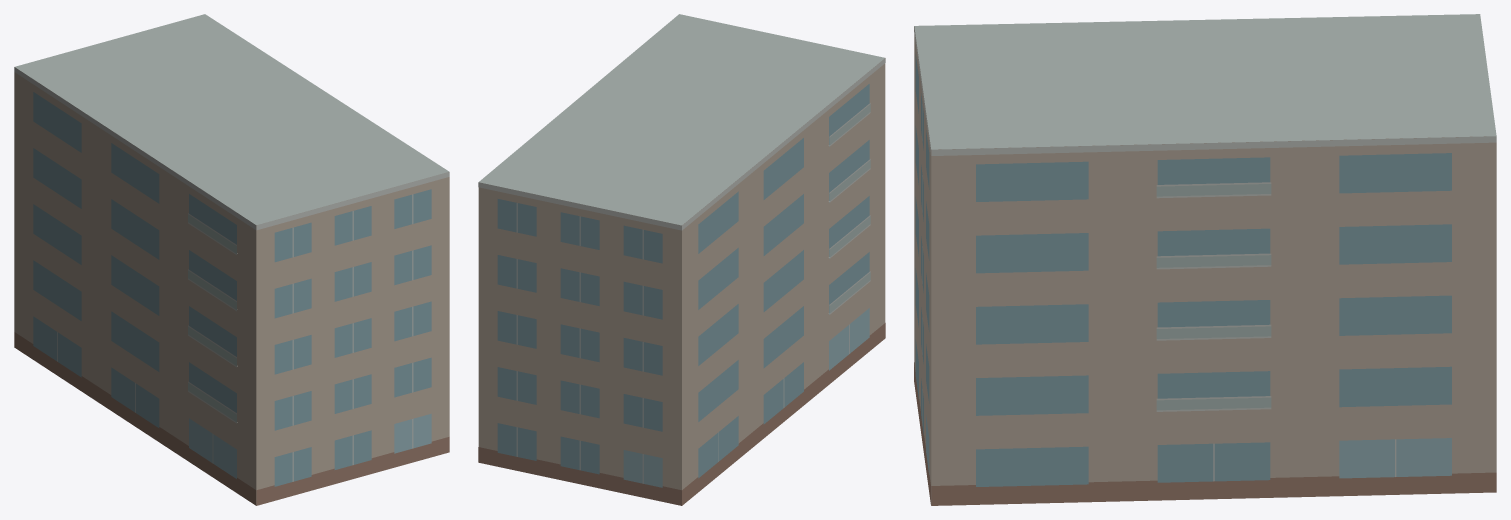
File: survey-upis-32662685.glb
3 views of the same model, side by side, from view 1: azimuth 30°, elevation 25°; view 2: azimuth 150°, elevation 25°; view 3: azimuth 270°, elevation 25° (orthographic). The views are drawn at different scales.
Parts seen in each view (by area): view 1: survey-upis-32662685.tmp; view 2: survey-upis-32662685.tmp; view 3: survey-upis-32662685.tmp.
Part boxes in pixels (bbox=[...]): survey-upis-32662685.tmp: bbox=[14, 14, 449, 505]; survey-upis-32662685.tmp: bbox=[478, 14, 885, 505]; survey-upis-32662685.tmp: bbox=[914, 14, 1496, 505].
Bounding box in the file's own units: 10.95 × 13.4 × 19.86.
